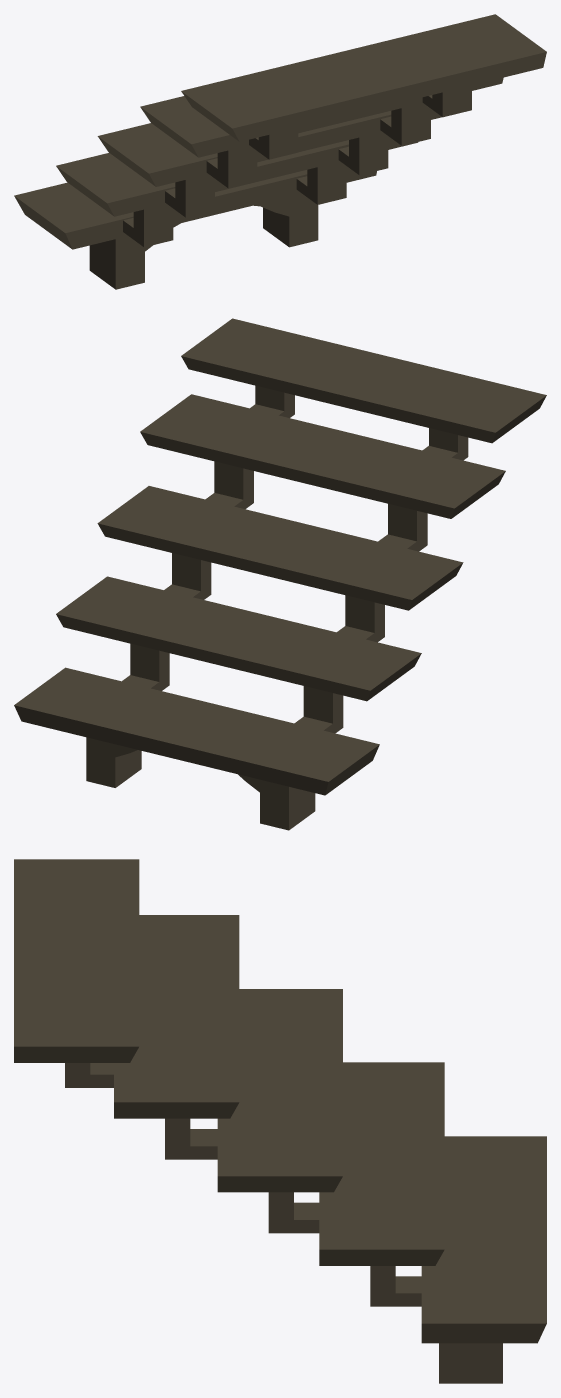
The model's file is escaleras.fbx.
3 renders of one model, top to bottom at view 1: azimuth 30°, elevation 25°; view 2: azimuth 150°, elevation 25°; view 3: azimuth 270°, elevation 25°, orthographic. The views are drawn at different scales.
Parts seen in each view (by area): view 1: escalon inicial, escalon4.001, escalon5, escalon1, escalon2; view 2: escalon4.001, escalon2, escalon5, escalon1, escalon inicial; view 3: escalon inicial, escalon4.001, escalon1, escalon5, escalon2.
Part boxes in pixels (x1=…): escalon inicial: x1=181, y1=14, x2=546, y2=159; escalon4.001: x1=14, y1=166, x2=376, y2=289; escalon5: x1=56, y1=136, x2=418, y2=247; escalon1: x1=97, y1=109, x2=442, y2=217; escalon2: x1=140, y1=77, x2=503, y2=188; escalon4.001: x1=14, y1=667, x2=379, y2=830; escalon2: x1=140, y1=394, x2=505, y2=551; escalon5: x1=56, y1=576, x2=421, y2=733; escalon1: x1=97, y1=486, x2=463, y2=642; escalon inicial: x1=181, y1=318, x2=546, y2=460; escalon inicial: x1=14, y1=859, x2=139, y2=1087; escalon4.001: x1=421, y1=1136, x2=546, y2=1383; escalon1: x1=217, y1=989, x2=342, y2=1233; escalon5: x1=319, y1=1062, x2=444, y2=1306; escalon2: x1=114, y1=915, x2=239, y2=1159.
Size of the model in its own units: 217 by 200 by 262.
